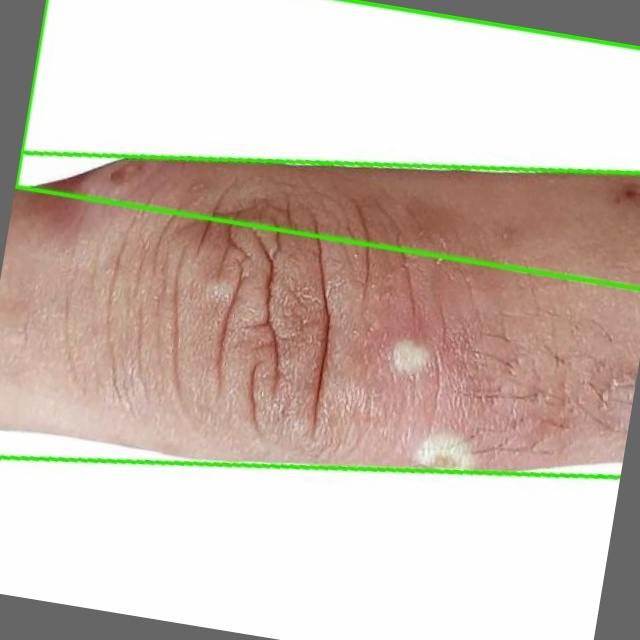Scabies: (0, 156, 639, 472), (16, 0, 639, 287)
